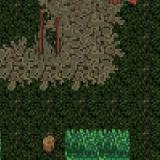Interaction: (33, 17, 67, 56)
Obstacle: (35, 129, 64, 160)
Slow: (64, 129, 130, 160)
